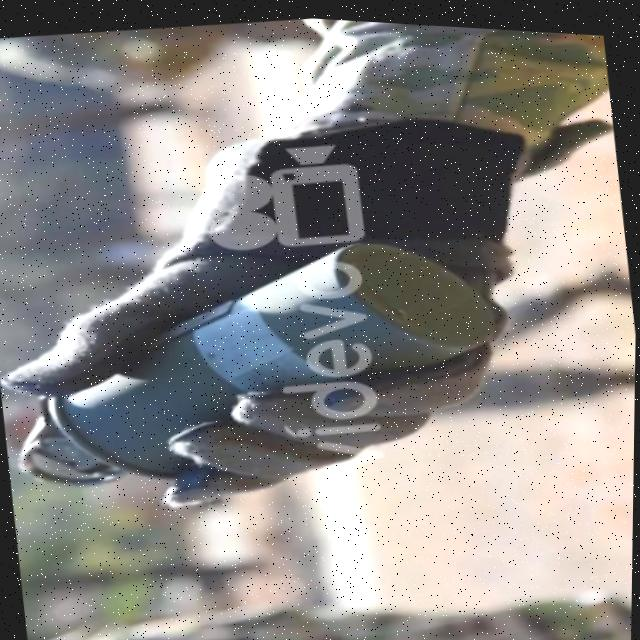grenade: (0, 198, 529, 531)
